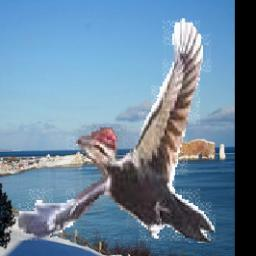Woodpecker: (12, 18, 216, 243)
